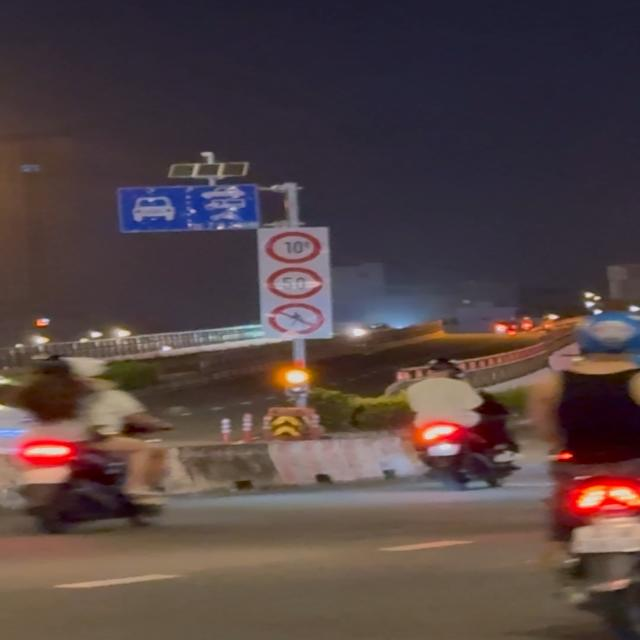Bien bao cam nguoi di bo: (268, 302, 327, 336)
Bien bao toc do toi da cho phep: (264, 266, 331, 300)
